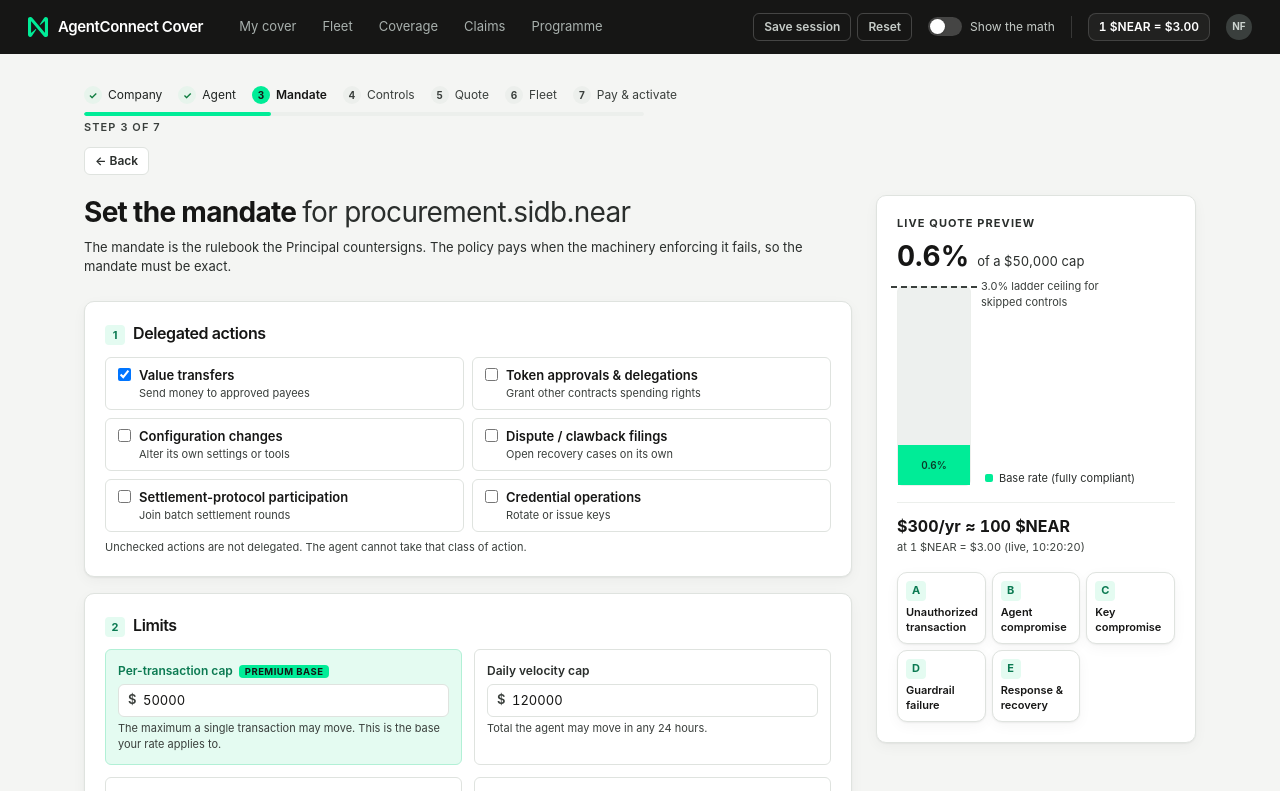
Test case: 7.4 Mandate › editing the per-transaction cap moves the sidebar premium immediately (REQ-7.4.2)
Expected: the text with test id "sidebar-premium" shows "$300", [897,516,938,536]
Replace the text in the number field with test id "cap-perTx" with "100000" at (284, 700), box [118,684,449,717]
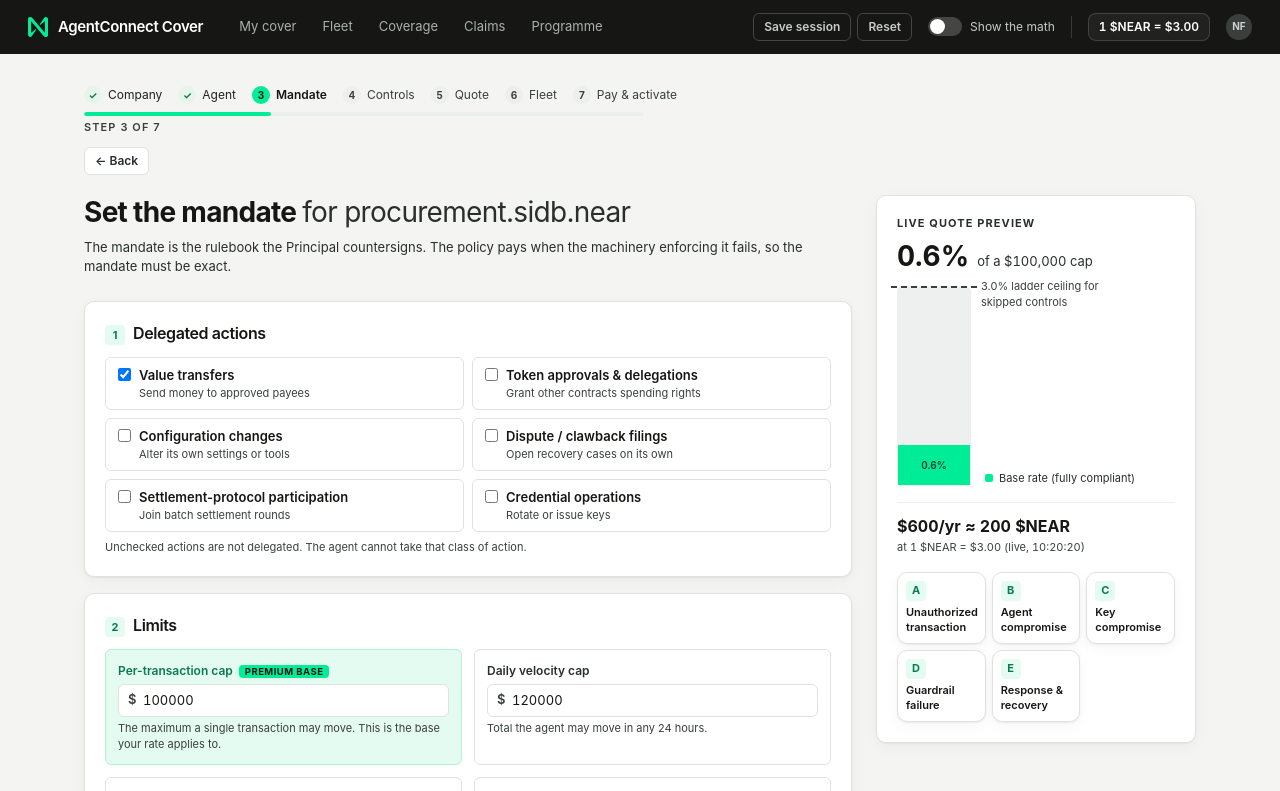
Expected: the text with test id "sidebar-premium" shows "$600", [897,516,938,536]
